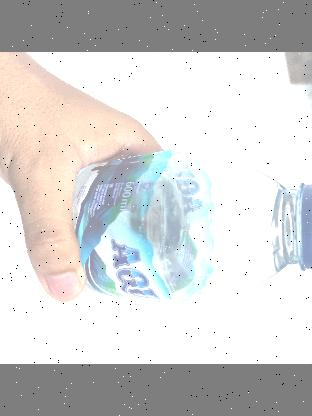Plastic Bottle: (0, 140, 312, 314)
